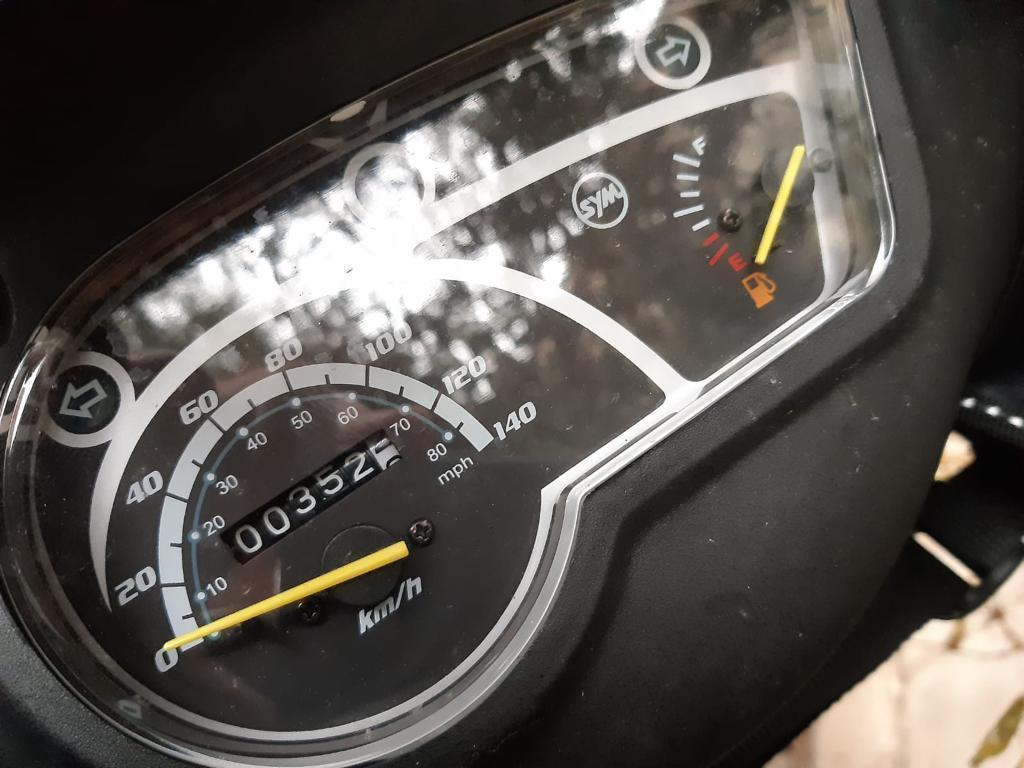0: (233, 523, 263, 554), (262, 505, 291, 535), (224, 474, 239, 489), (254, 431, 267, 445), (213, 514, 225, 529)
2: (343, 450, 374, 482), (364, 427, 392, 453)
3: (288, 485, 317, 514), (214, 480, 229, 495)
4: (246, 437, 258, 451)
5: (312, 464, 345, 495)
odometer: (213, 427, 404, 567)
